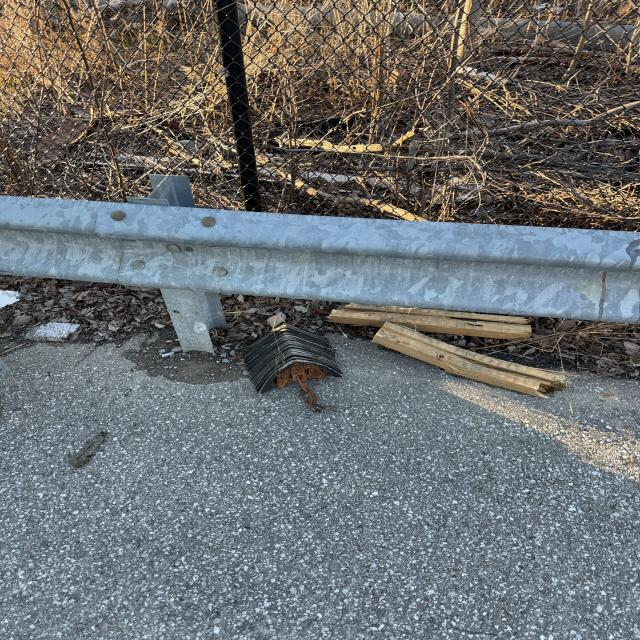Guard rail: (13, 188, 620, 320)
